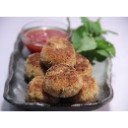cutlet: (45, 65, 83, 97), (43, 37, 74, 65), (25, 55, 43, 78), (25, 78, 43, 98)
